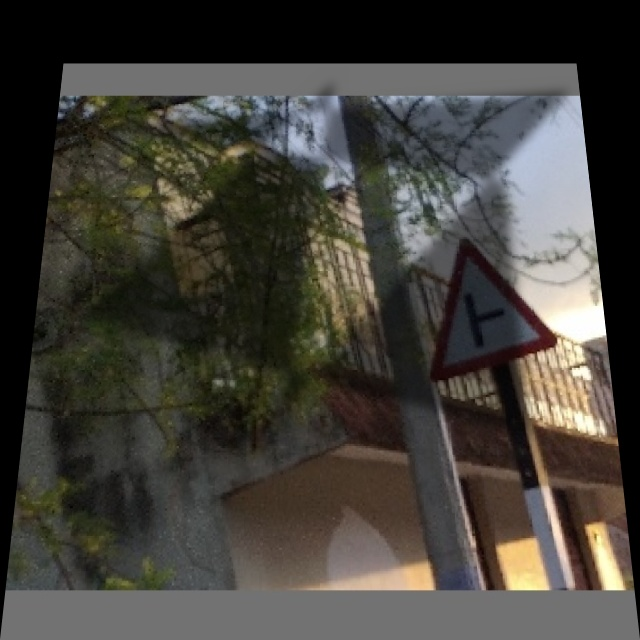Side_Road_Right: (419, 232, 569, 384)
